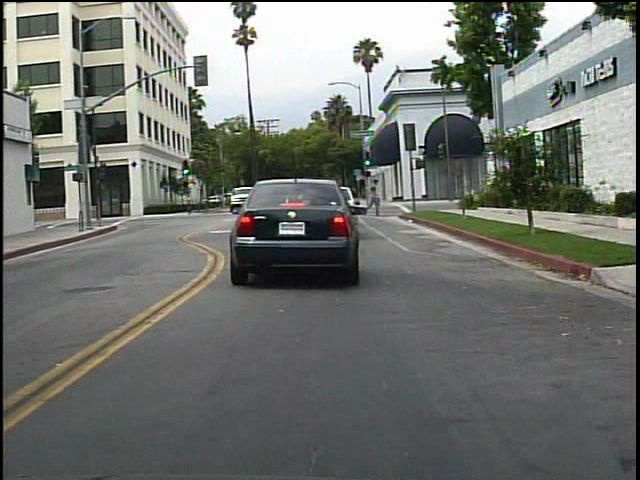person: (358, 176, 384, 221)
